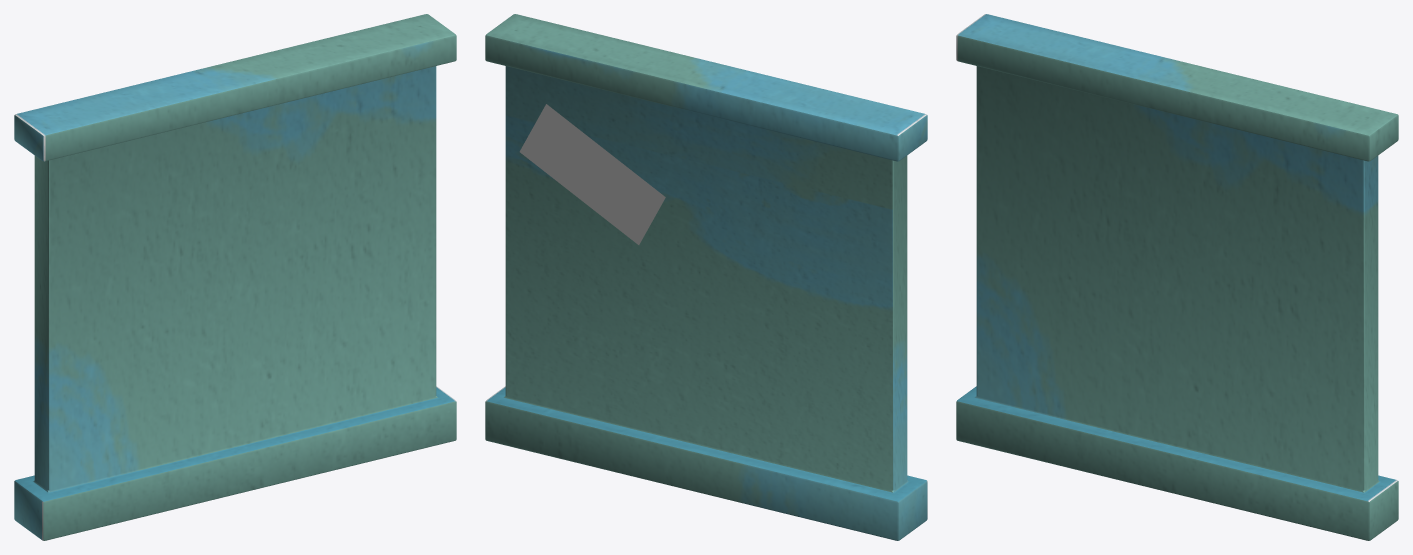
The model's file is TOMB_WALL_3_005.obj.
The picture shows the model from 3 angles, left to right: view 1: azimuth 30°, elevation 25°; view 2: azimuth 150°, elevation 25°; view 3: azimuth 330°, elevation 25°; orthographic projection.
Visible parts, largest first — view 1: TOMB_WALL_3_005; view 2: TOMB_WALL_3_005; view 3: TOMB_WALL_3_005.
Part boxes in pixels (x1=…): TOMB_WALL_3_005: x1=14, y1=14, x2=456, y2=540; TOMB_WALL_3_005: x1=485, y1=14, x2=927, y2=540; TOMB_WALL_3_005: x1=956, y1=14, x2=1398, y2=540.
Bounding box in the file's own units: 3.2 × 3 × 0.4.
